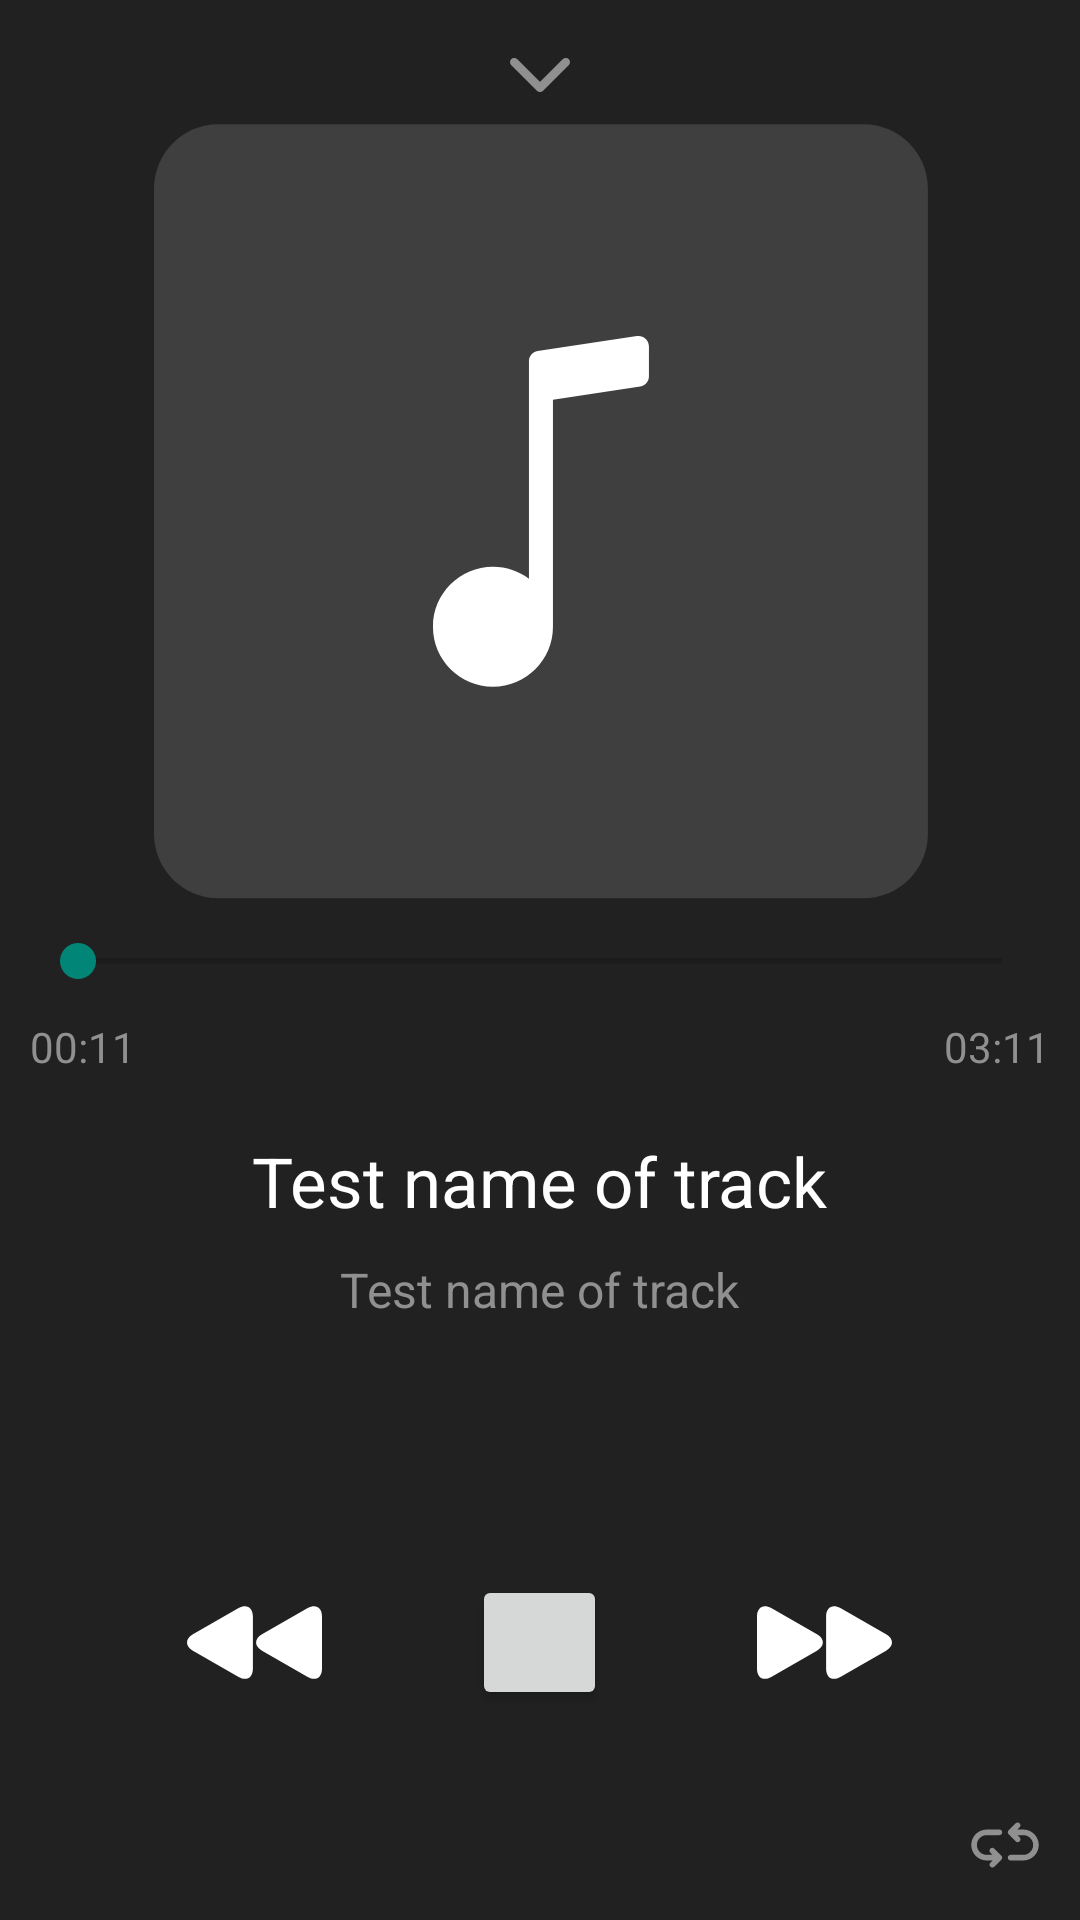

Screen size 1080×1920. Icon name, then its box in pixels as (x1, y1, x2, y2):
arrowdown: (510, 58, 570, 92)
loop: (971, 1822, 1039, 1868)
next: (757, 1606, 892, 1679)
prev: (187, 1606, 322, 1679)
